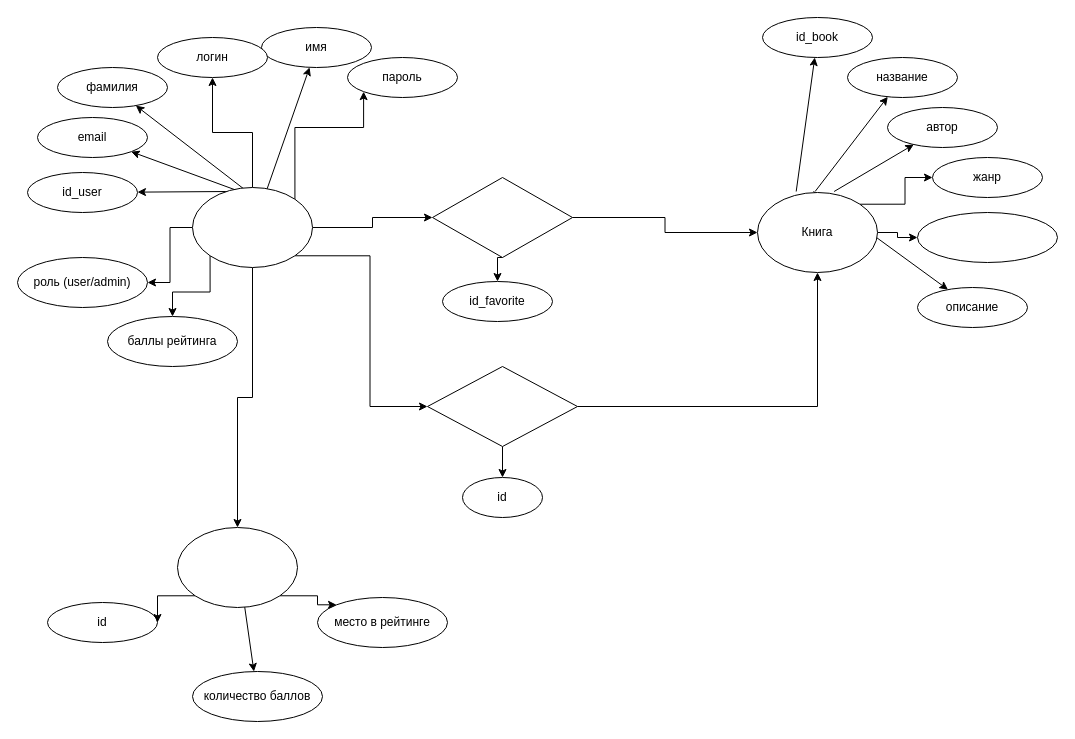
This 1075x739 diagram has some shape labels left out. The centre of each missing label's shape, as x and y in pixels:
"добавляет в избранное" goes at point (502, 217).
"Пользователь" goes at point (252, 227).
"просматривает (история)" goes at point (502, 406).
"путь к PDF (file_path)" goes at point (987, 237).
"Рейтинг активности" goes at point (237, 567).
